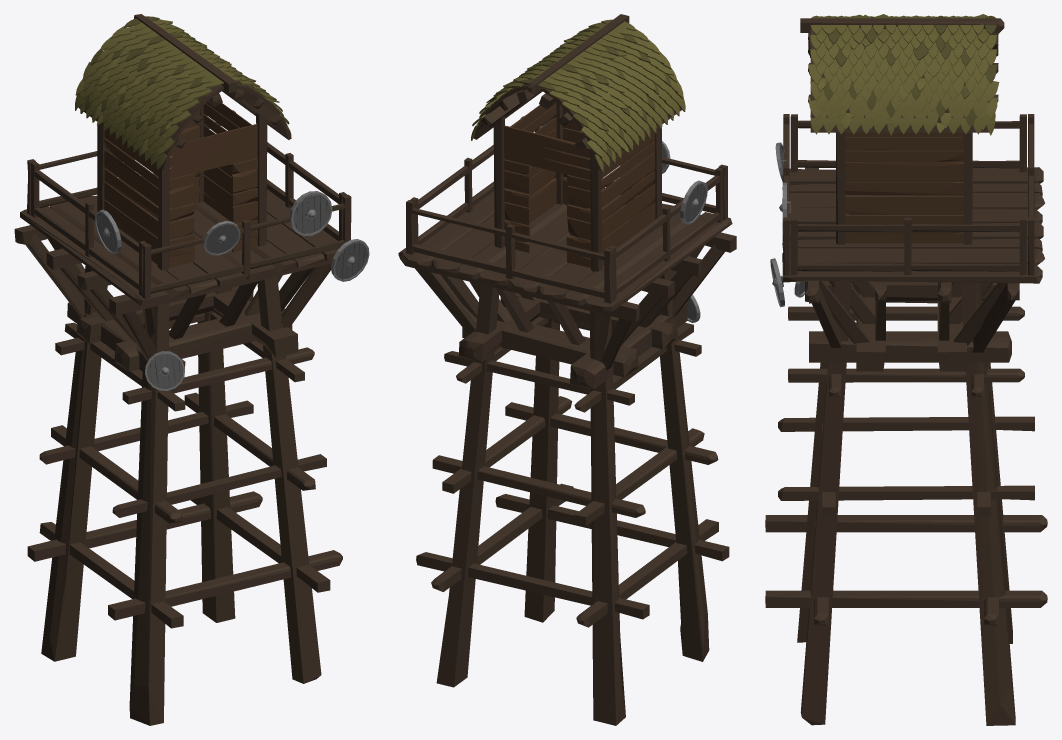
File: SM_watchtower_norse.fbx
3 renders of one model, left to right at view 1: azimuth 30°, elevation 25°; view 2: azimuth 150°, elevation 25°; view 3: azimuth 270°, elevation 25°, orthographic. The views are drawn at different scales.
Parts seen in each view (by area): view 1: Object544; view 2: Object544; view 3: Object544.
Part boxes in pixels (x1,y1,x2,y2): Object544: (14,14,369,725); Object544: (398,14,736,725); Object544: (765,14,1047,725).
Bounding box in the file's own units: 208 × 508 × 197.
